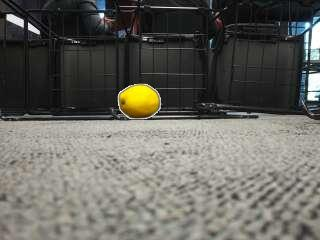lemon: (120, 85, 159, 117)
